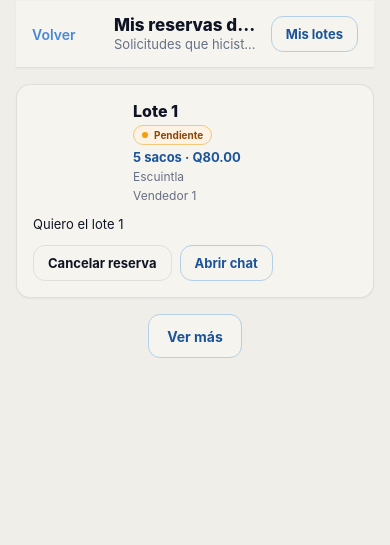
Test case: MyMaterialReservationsScreen — paginacion y navegacion › carga la siguiente pagina y la agrega sin perder la primera
The width and height of the screenshot is (390, 545).
Check: the text "Lote 1" is shown, box x1=133 y1=101 x2=178 y2=121
Click the text "Ver más".
click(195, 336)  # box x1=167 y1=328 x2=223 y2=344
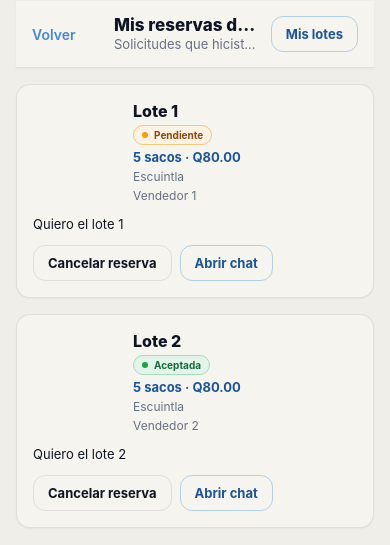
Check: the text "Lote 1" is shown, box x1=133 y1=101 x2=178 y2=121
Check: the text "Lote 2" is shown, box x1=133 y1=331 x2=181 y2=351
Check: the text "Ver más" is gone
